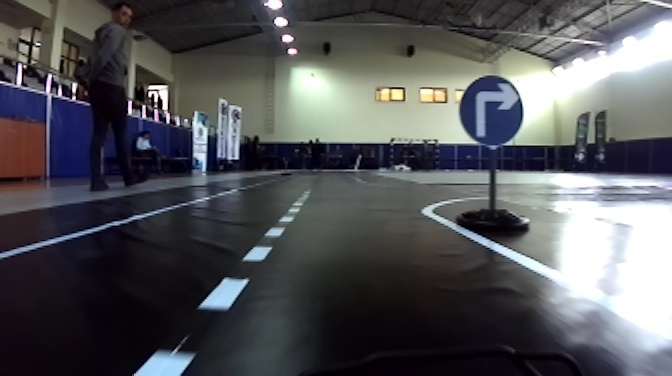saga_donus: (458, 75, 525, 144)
